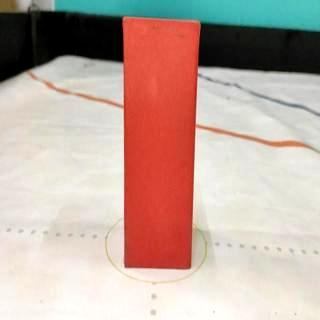redbox: (124, 16, 200, 267)
